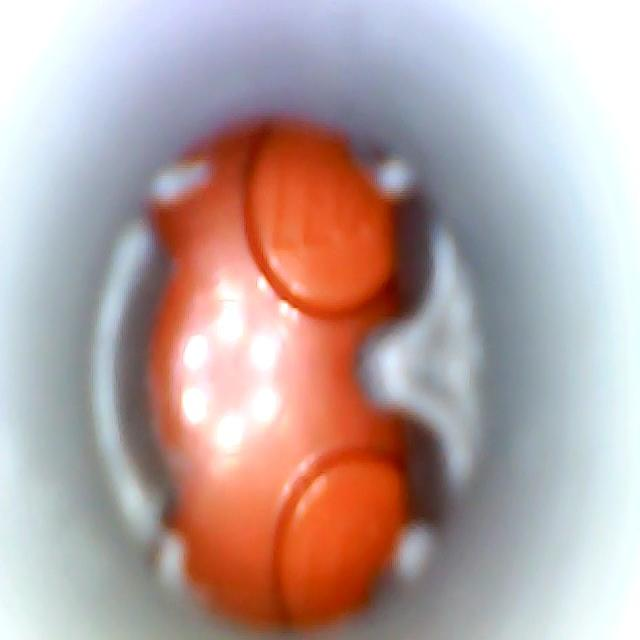studs: (246, 136, 395, 316), (274, 447, 410, 625)
